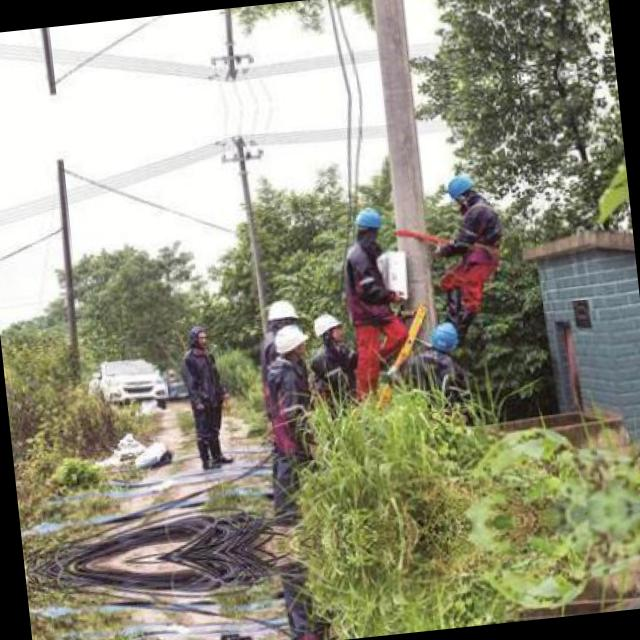helmet: (346, 202, 386, 248), (257, 294, 298, 336), (270, 319, 308, 359), (424, 318, 462, 357), (311, 309, 346, 351), (446, 172, 480, 212)
